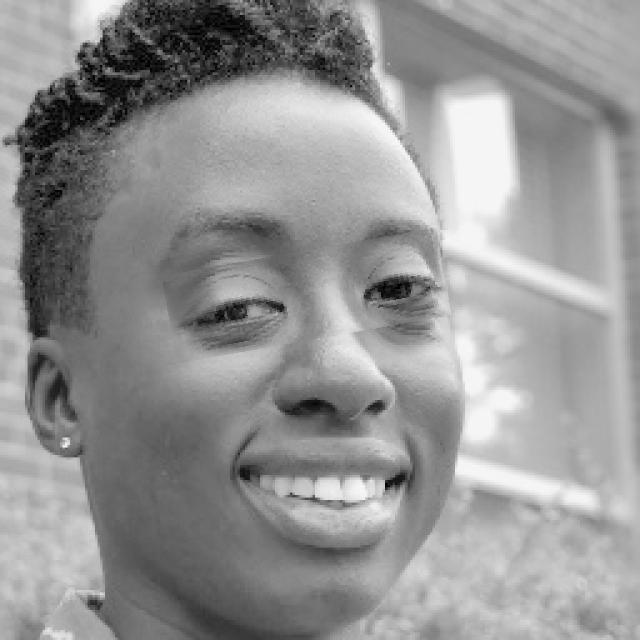no-glasses: (164, 239, 449, 352)
